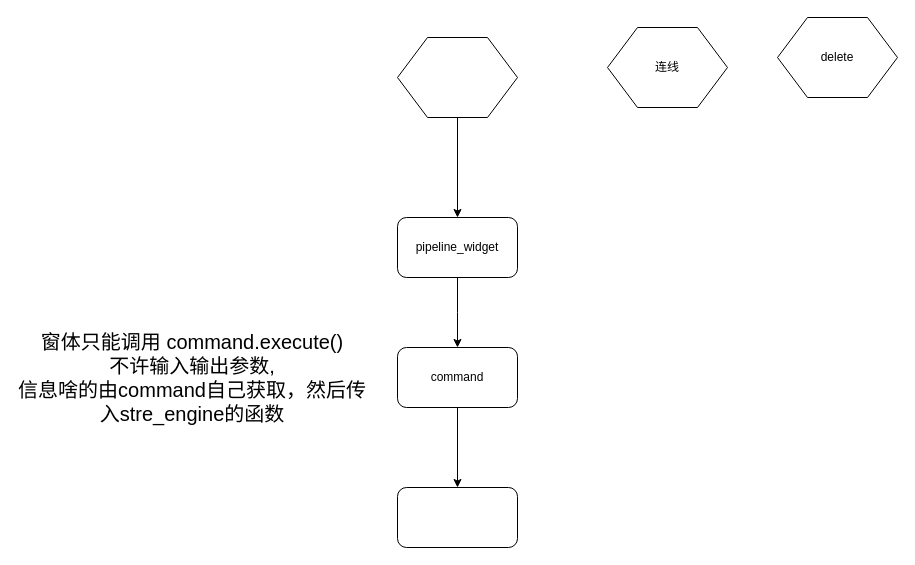
The diagram is 915 pixels wide and 565 high, and some of its shapes have lost their labels. The shapes that lost their labels are listed below. From the top down, each one's centre as x and y in pixels, then its label:
At (457,77): "右键构建".
At (457,517): "stre_engine".
